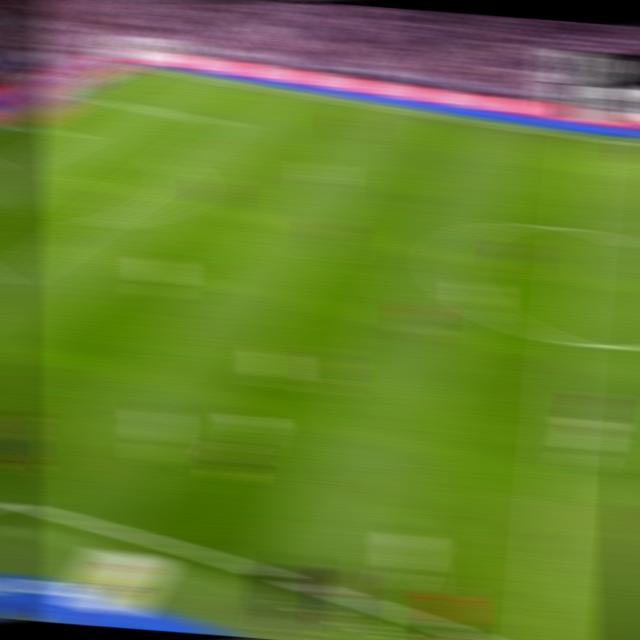bigarea_top_inner: (213, 115, 240, 131)
bigarea_top_outter: (72, 88, 101, 101)
bottom_arc_area_intersection: (74, 213, 104, 233)
corner: (132, 62, 160, 73)
halfcircle_bottom: (549, 324, 584, 354)
halfcircle_top: (560, 217, 595, 242)
midline_top_intersection: (573, 131, 600, 145)
smallarea_top_inner: (58, 128, 87, 143)
top_arc_area_intersection: (159, 153, 187, 170)
